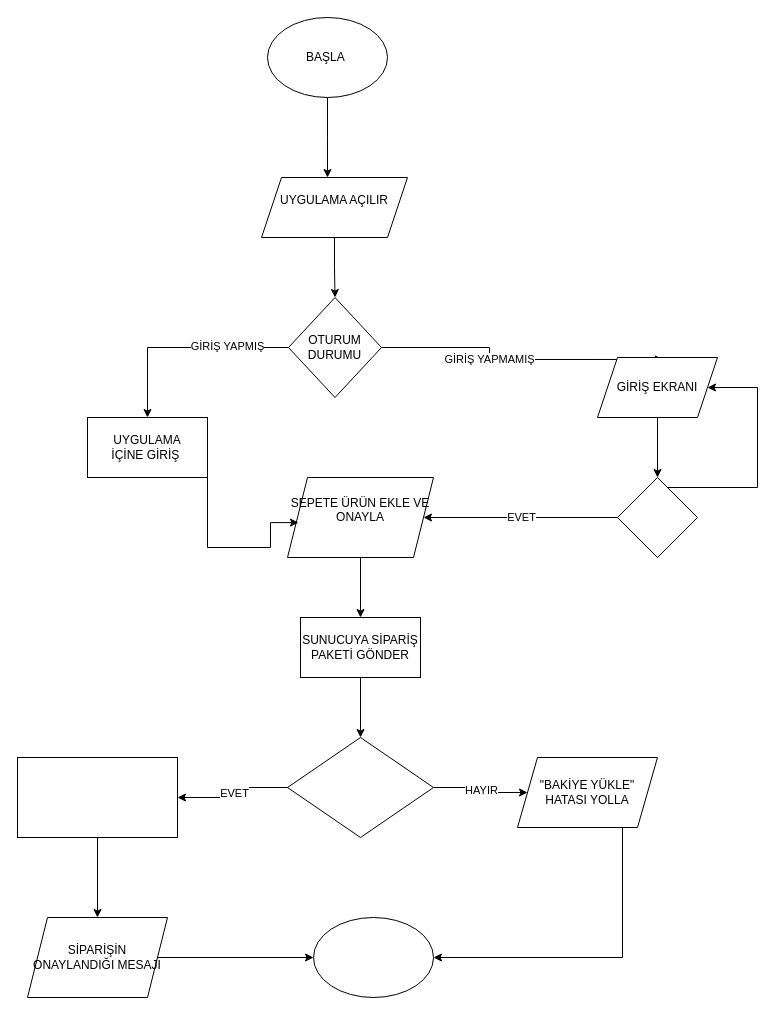
Image size: 783x1015. Some labels were removed from this diagram. Here are the shapes that lost their labels. From the top down, the centre of each, then its label:
(657,517): GİRİŞ BAŞARILI MI?
(97,797): ordeStatus = "accept", bakiye = bakiye - tutar
(360,787): BAKİYE >= TUTAR
(373,957): BİTİR
